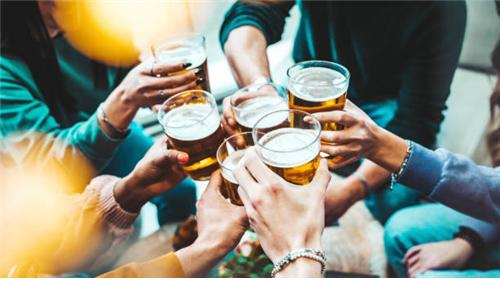alcohol: (285, 61, 350, 153), (157, 90, 223, 177), (250, 114, 319, 189), (217, 136, 274, 209), (152, 41, 209, 95), (230, 82, 286, 135)
